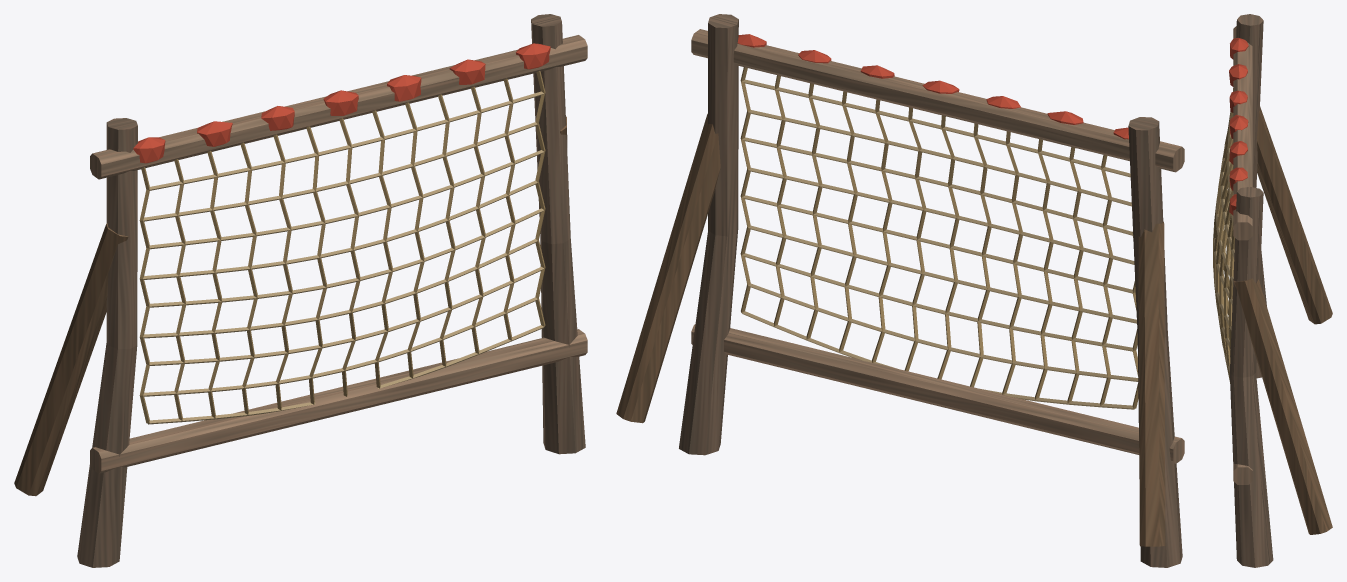
File: fishing-rack.glb
3 renders of one model, left to right at view 1: azimuth 30°, elevation 25°; view 2: azimuth 150°, elevation 25°; view 3: azimuth 270°, elevation 25°, orthographic. The views are drawn at different scales.
Visible parts, largest first — view 1: Tied fishing gear rack with float trays and wrapped oars, Laced rope net, buoy knots and coiled cord; view 2: Tied fishing gear rack with float trays and wrapped oars, Laced rope net, buoy knots and coiled cord; view 3: Tied fishing gear rack with float trays and wrapped oars, Laced rope net, buoy knots and coiled cord.
Part boxes in pixels (x1,y1,x2,y2): Tied fishing gear rack with float trays and wrapped oars: (14,14,587,567); Laced rope net, buoy knots and coiled cord: (133,43,550,424); Tied fishing gear rack with float trays and wrapped oars: (616,14,1184,567); Laced rope net, buoy knots and coiled cord: (737,34,1138,409); Tied fishing gear rack with float trays and wrapped oars: (1230,14,1332,567); Laced rope net, buoy knots and coiled cord: (1213,38,1248,383).
Bounding box in the file's own units: 2.18 × 1.63 × 0.492.
Materials: 2 (1 with a texture image).
